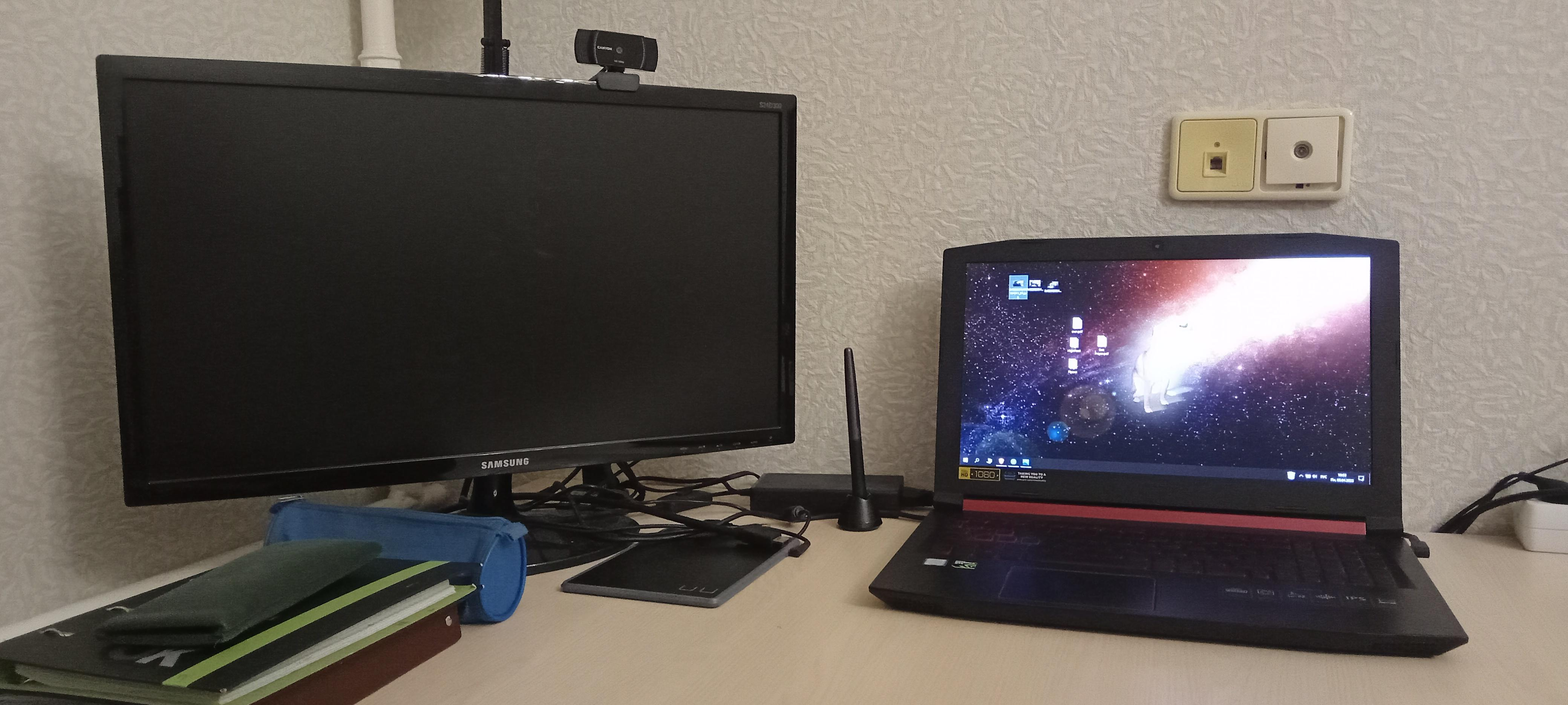monitor: (92, 51, 803, 512), (929, 233, 1417, 540)
